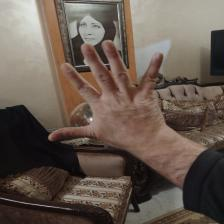five: (43, 42, 174, 152)
